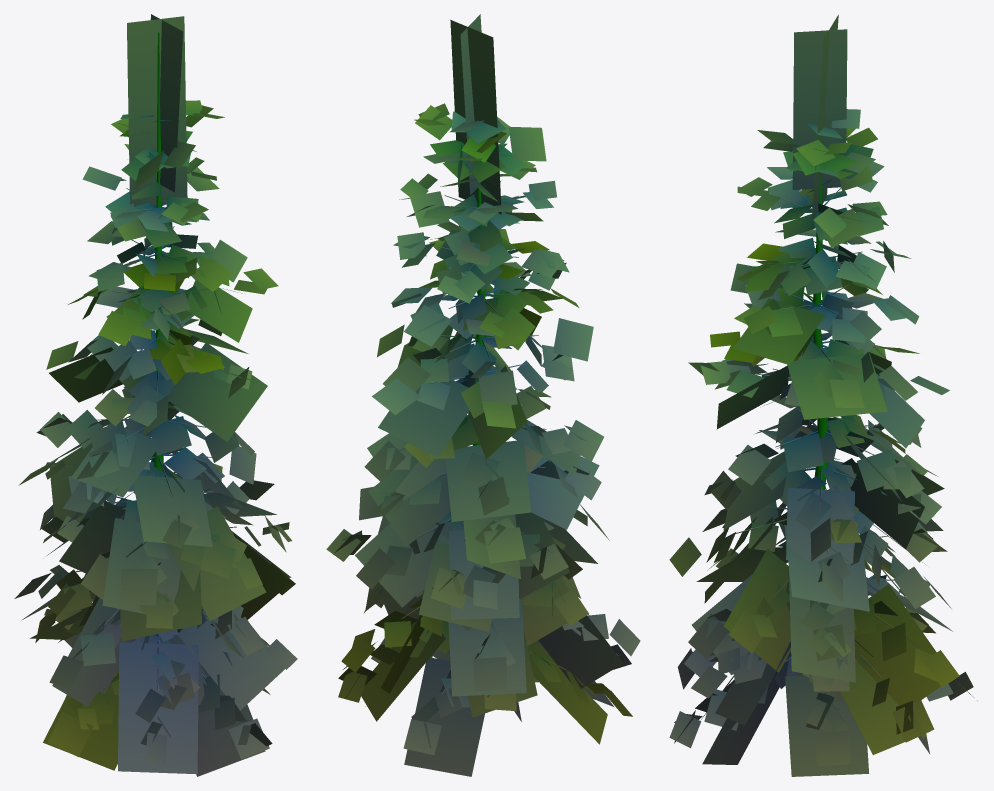
Rendered from spruce_sapling_b.glb.
The picture shows the model from 3 angles, left to right: view 1: azimuth 30°, elevation 25°; view 2: azimuth 150°, elevation 25°; view 3: azimuth 270°, elevation 25°; orthographic projection. The views are drawn at different scales.
Visible parts, largest first — view 1: LOD0; view 2: LOD0; view 3: LOD0.
Part boxes in pixels (x1=…): LOD0: x1=14, y1=14, x2=297, y2=776; LOD0: x1=326, y1=14, x2=640, y2=776; LOD0: x1=669, y1=14, x2=977, y2=776.
Size of what is drawn, in the model's own units: 2.06 by 5.2 by 1.97.
